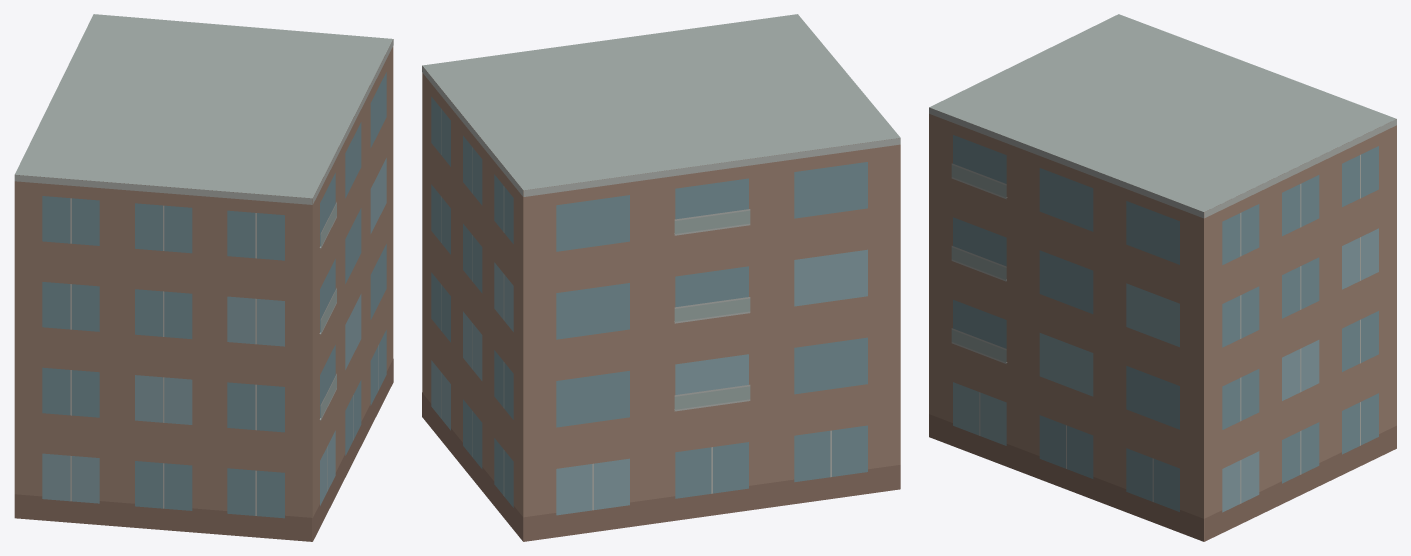
Rendered from survey-upis-32983623.glb.
3 views of the same model, side by side, from view 1: azimuth 30°, elevation 25°; view 2: azimuth 150°, elevation 25°; view 3: azimuth 270°, elevation 25° (orthographic). The views are drawn at different scales.
Visible parts, largest first — view 1: survey-upis-32983623.tmp; view 2: survey-upis-32983623.tmp; view 3: survey-upis-32983623.tmp.
Part boxes in pixels (x1,y1,x2,y2): survey-upis-32983623.tmp: [14, 14, 393, 541]; survey-upis-32983623.tmp: [422, 14, 900, 541]; survey-upis-32983623.tmp: [929, 14, 1396, 541].
Size of the model in its own units: 16.38 by 12.7 by 16.34.
